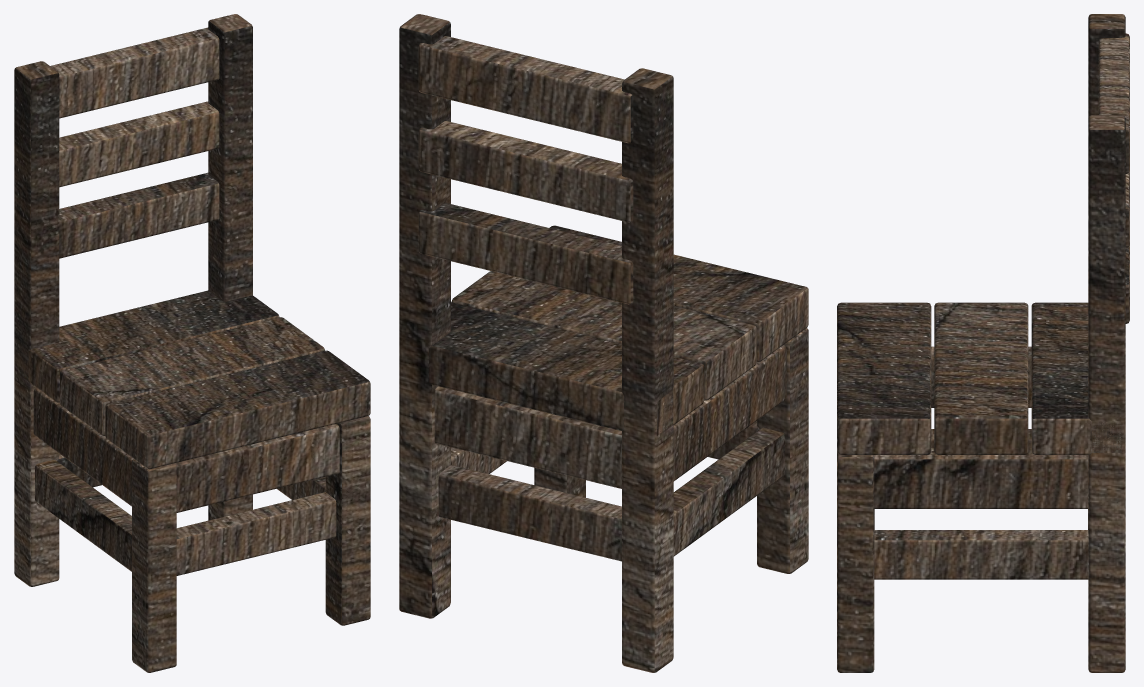
The model's file is tavern-chair-v04.glb.
The picture shows the model from 3 angles, left to right: view 1: azimuth 30°, elevation 25°; view 2: azimuth 150°, elevation 25°; view 3: azimuth 270°, elevation 25°; orthographic projection. The views are drawn at different scales.
Visible parts, largest first — view 1: chair-v04; view 2: chair-v04; view 3: chair-v04.
Boxes of the visible parts, left/top/right/bottom form: chair-v04: left=14, top=14, right=370, bottom=672; chair-v04: left=399, top=14, right=808, bottom=672; chair-v04: left=837, top=14, right=1129, bottom=672.
Bounding box in the file's own units: 0.46 × 1 × 0.487.
Materials: 3 (3 with a texture image).
